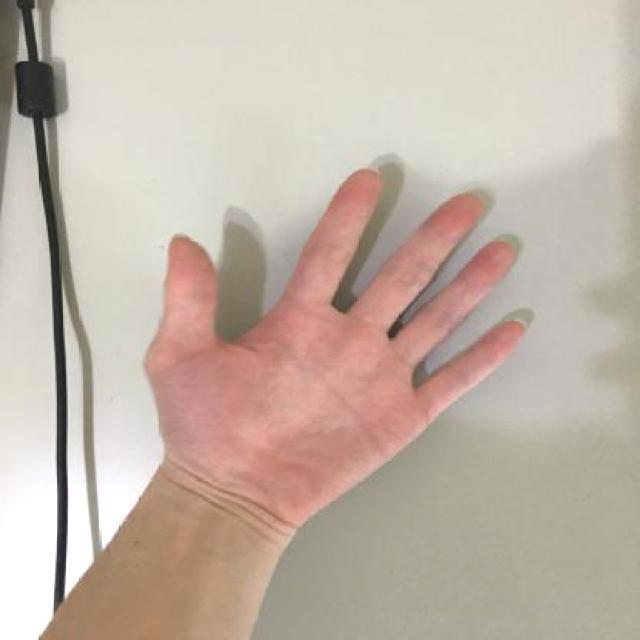no_glove: (132, 157, 554, 545)
